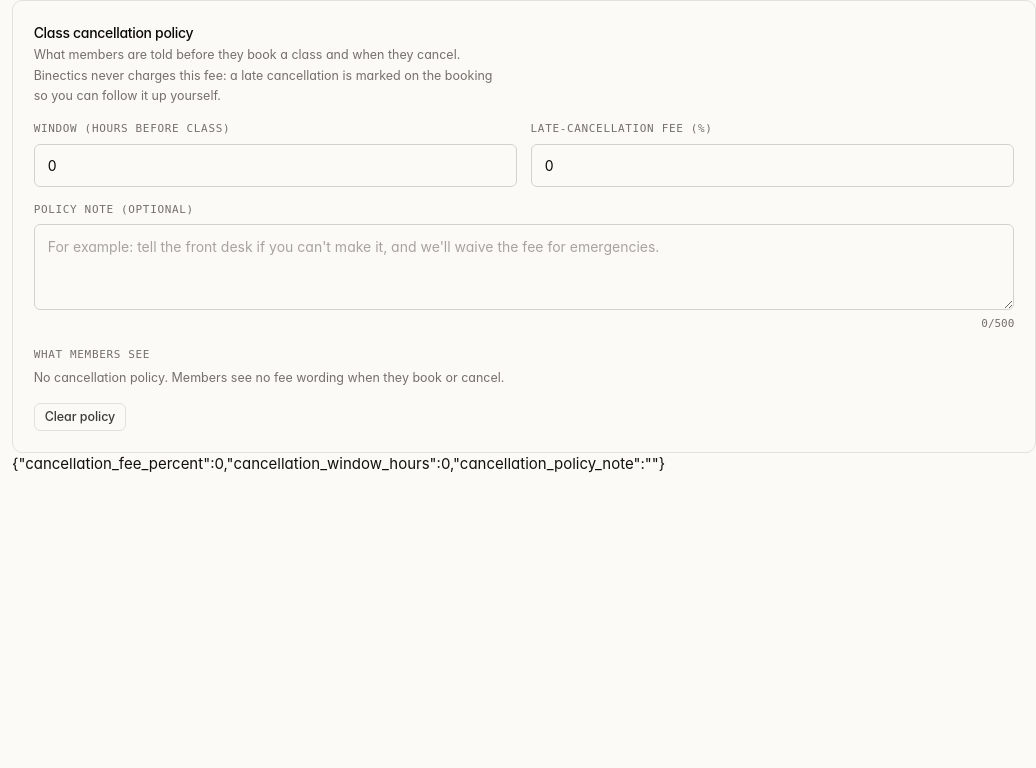
Scenario: provider settings: the policy editor › sets the window, the fee and a note, with a live preview of what members see
Check: the text with test id "class-cancellation-policy-none" is shown, box [34,370,504,385]
Replace the text in the number field labelled "Window (hours before class)" with "24": (276, 165) [34,144,517,187]
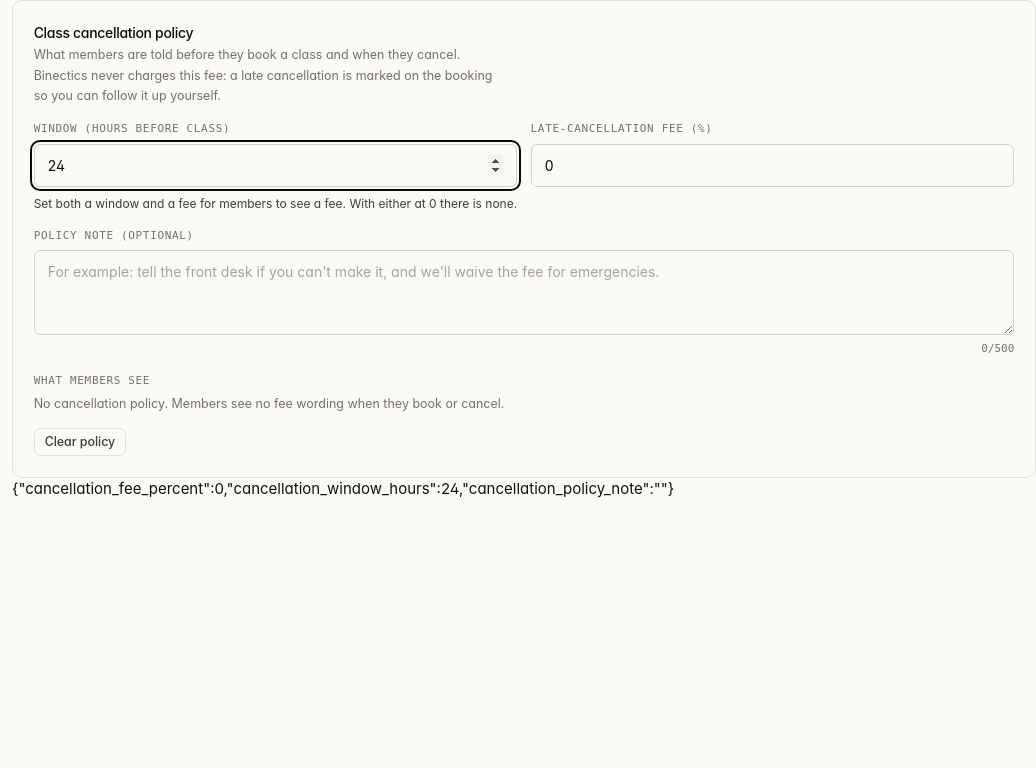
Check: the text "Set both a window and a fee" is shown, box [34,196,517,211]
Replace the text in the number field labelled "Late-cancellation fee (%)" with "50": (772, 165) [531,144,1014,187]
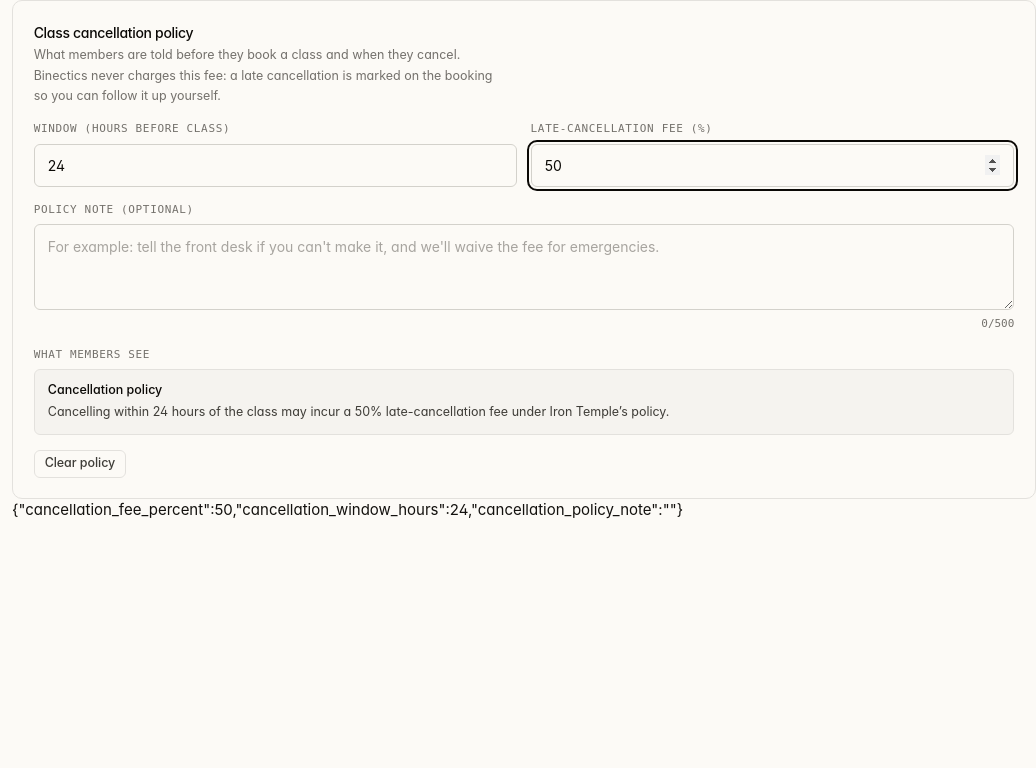
In the text box labelled "Policy note (optional)": (524, 267) [34,224,1014,310], type "Emergencies are waived."
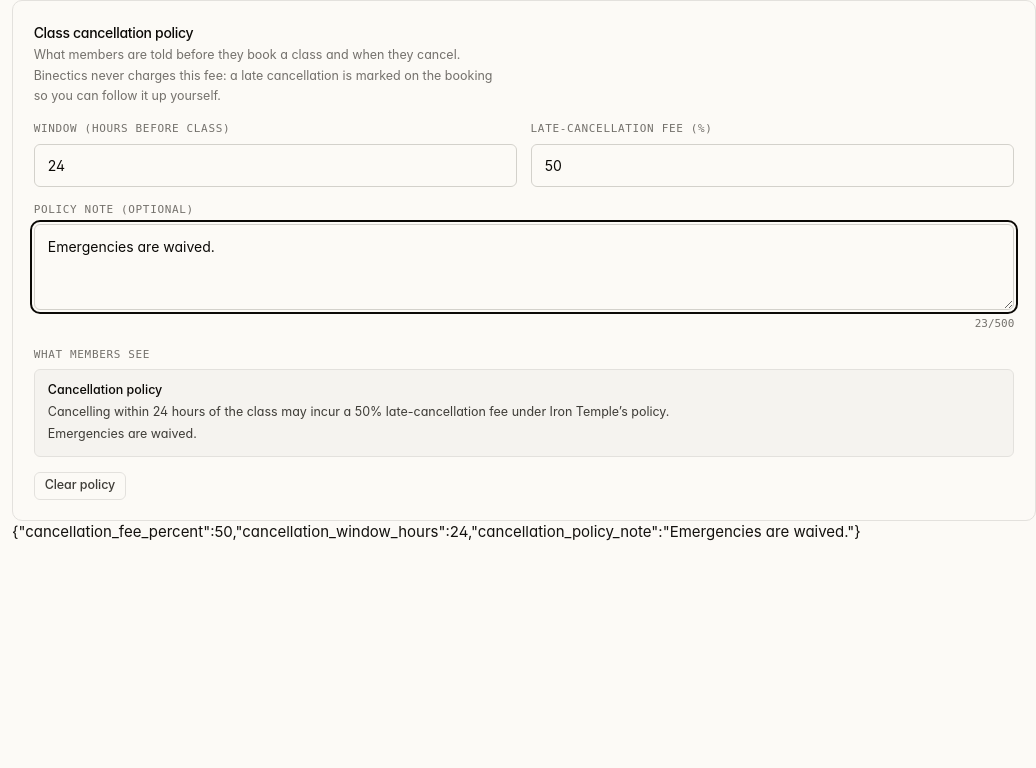
Check: the element with test id "class-cancellation-policy" shows "Cancelling within 24 hours of the class may incur a 50% late-cancellation fee under Iron Temple’s policy.", box [48,404,670,419]
Check: the element with test id "class-cancellation-policy" shows "Emergencies are waived.", box [48,426,197,441]
